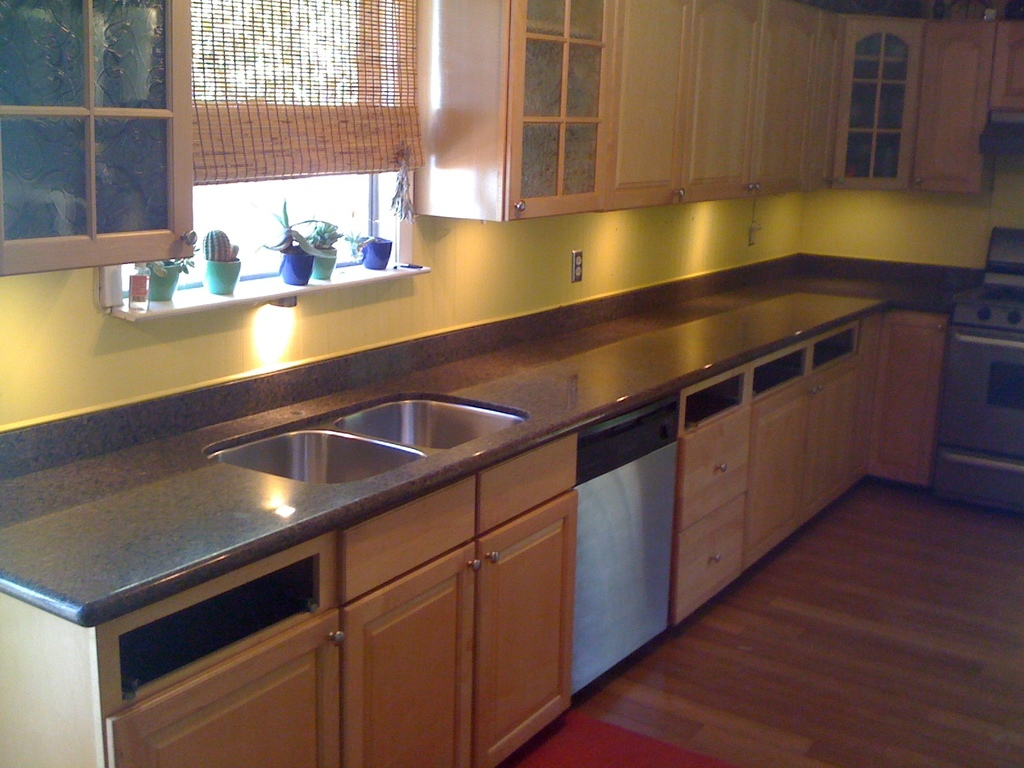cabinet door: (0, 13, 194, 257), (350, 548, 478, 768), (472, 517, 574, 736), (126, 682, 339, 768), (518, 9, 605, 212), (614, 5, 689, 212), (694, 23, 755, 202), (916, 32, 977, 189), (850, 23, 903, 188), (760, 31, 801, 190), (756, 385, 802, 524), (806, 383, 859, 500), (682, 506, 750, 583), (686, 429, 748, 501)
handle: (958, 324, 1024, 362), (948, 442, 1024, 474), (311, 621, 342, 655), (457, 546, 481, 583), (502, 191, 530, 221), (478, 542, 503, 574), (702, 542, 724, 573), (711, 458, 733, 487), (178, 222, 198, 252), (671, 181, 690, 207)
